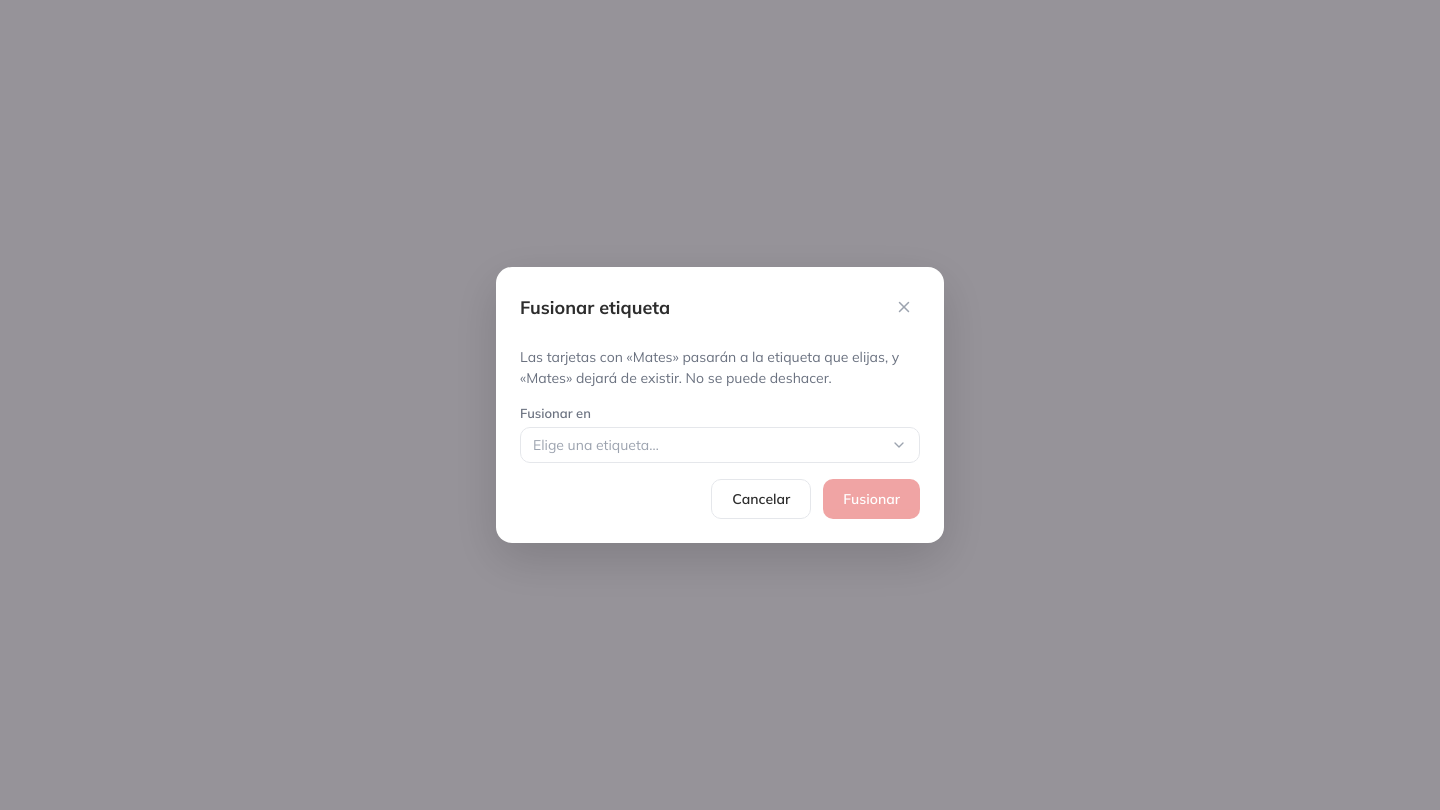
MergeTagModal › muestra el error del servidor sin cerrar
The image size is (1440, 810).
Click the dropdown named "Fusionar en" at (596, 445), box [520,427,920,463]
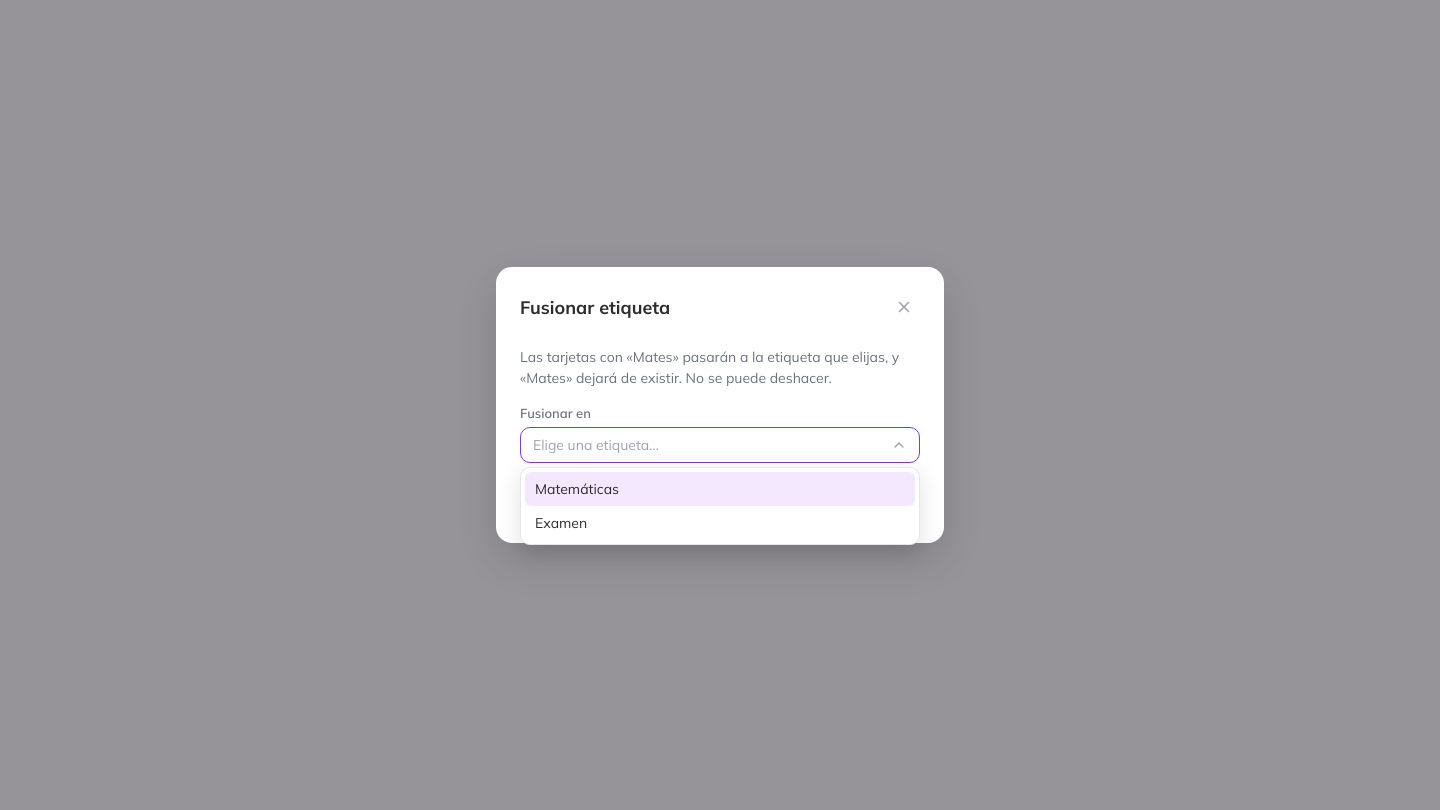
Click the option "Matemáticas" at (577, 489), box [525,472,915,506]
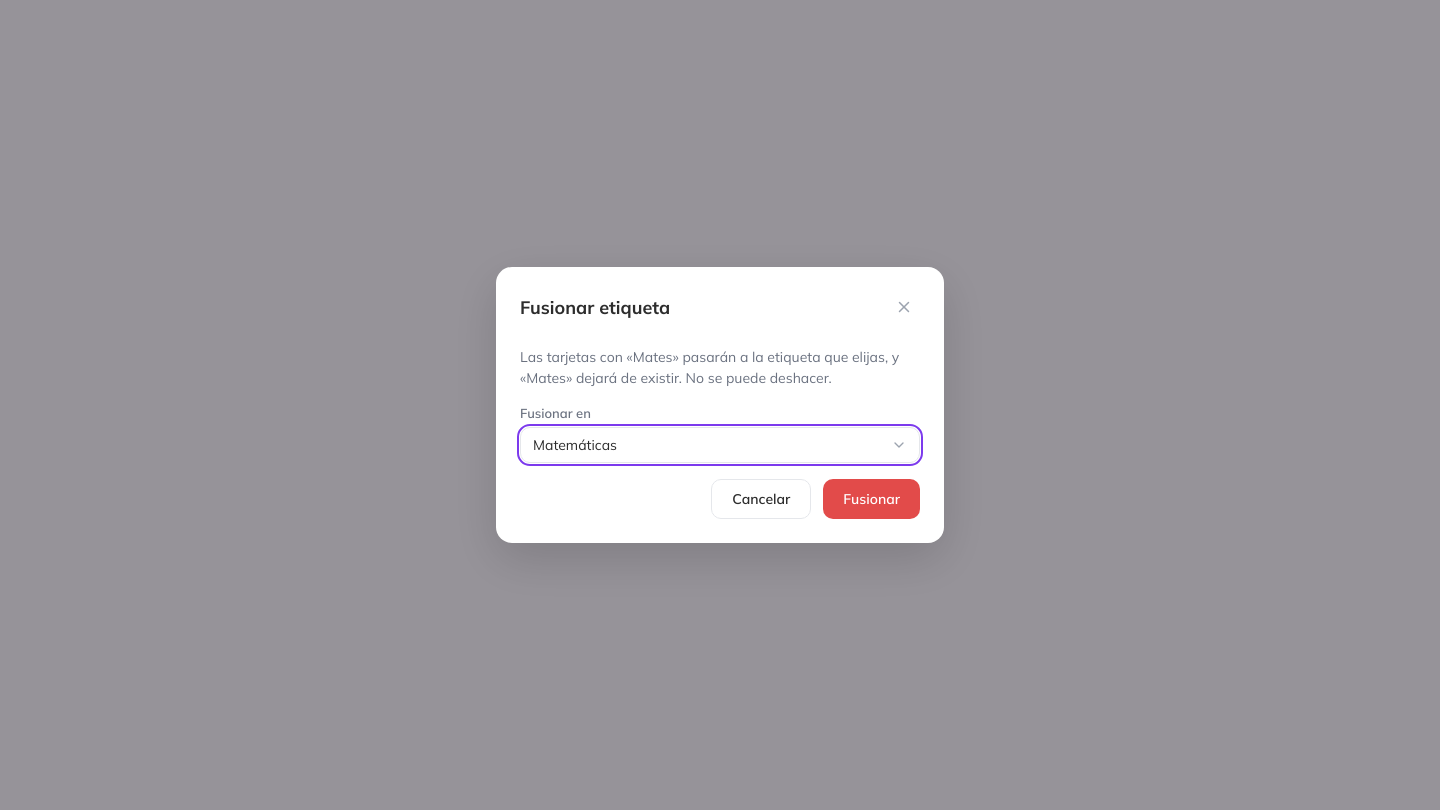
Click the button "Fusionar" at (872, 499), box [823,479,920,519]
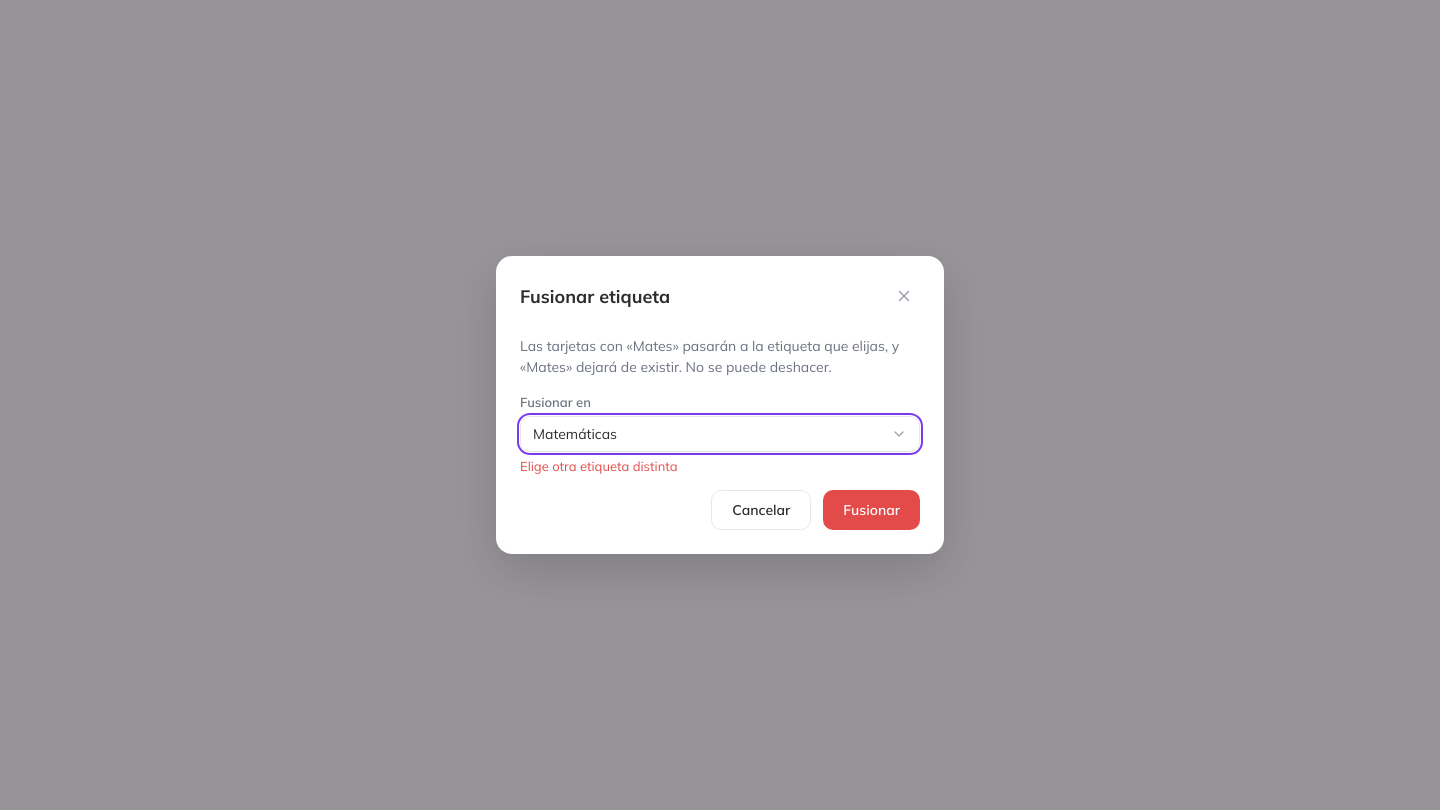
Expected: the message reads "Elige otra etiqueta distinta", [520,458,678,474]
